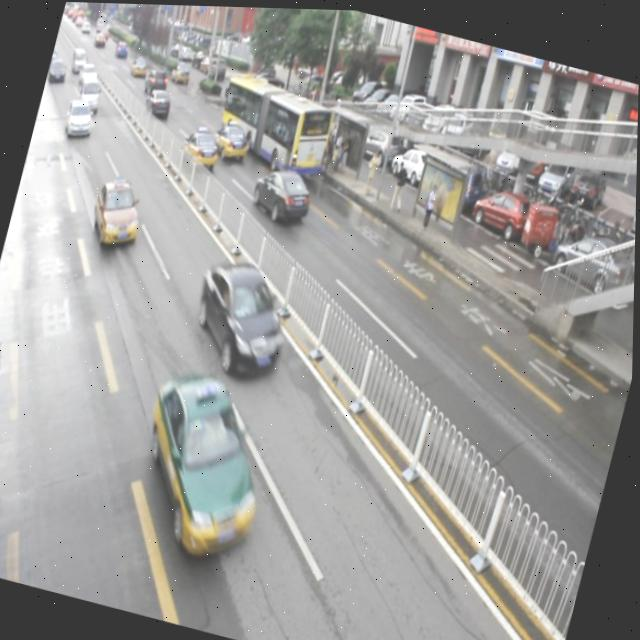car: (122, 363, 285, 567), (182, 250, 303, 386), (86, 173, 150, 253), (247, 161, 316, 225), (179, 121, 224, 169), (210, 114, 253, 162), (62, 96, 98, 142), (142, 84, 175, 120)
van: (210, 67, 338, 183)
